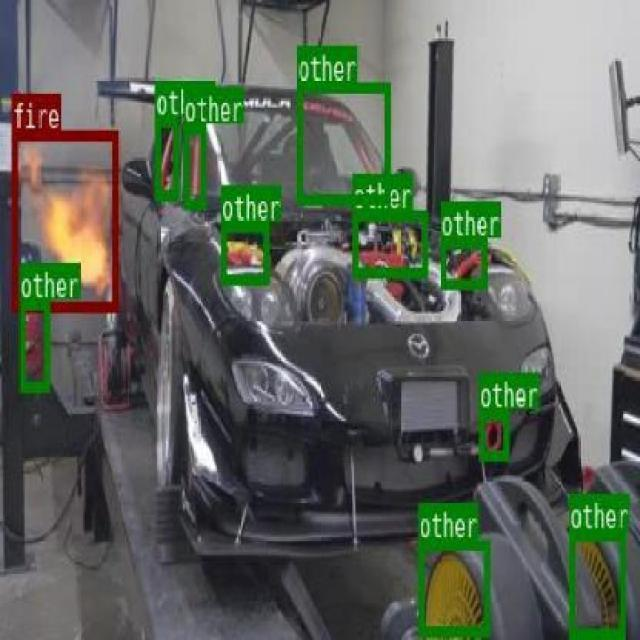Fire: (10, 129, 116, 309)
